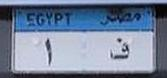1: (43, 36, 56, 67)
faa: (106, 35, 131, 63)
